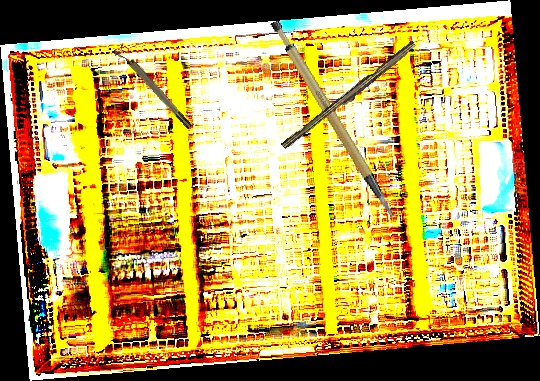Fixation Ring: (112, 42, 194, 134)
Scalpel Handle: (267, 7, 396, 233), (280, 38, 419, 154)
